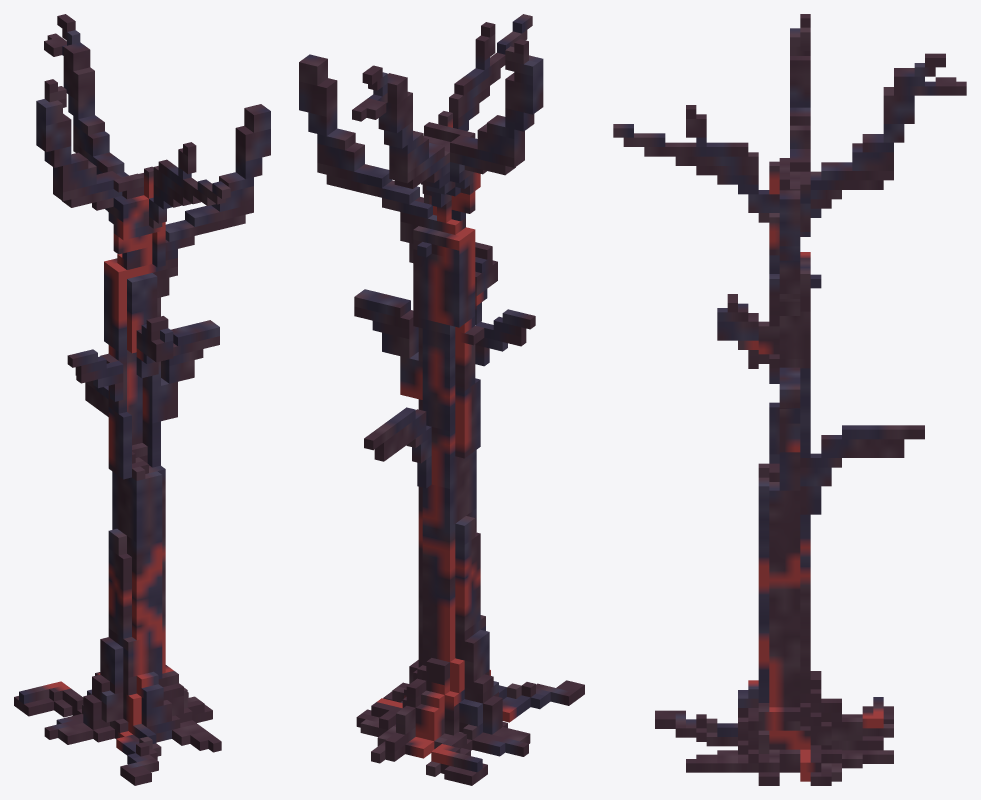
Rendered from Tree_state_4.fbx.
3 renders of one model, left to right at view 1: azimuth 30°, elevation 25°; view 2: azimuth 150°, elevation 25°; view 3: azimuth 270°, elevation 25°, orthographic. The views are drawn at different scales.
Visible parts, largest first — view 1: Tree_state_4; view 2: Tree_state_4; view 3: Tree_state_4.
Boxes of the visible parts, left/top/right/bottom form: Tree_state_4: left=14, top=14, right=270, bottom=785; Tree_state_4: left=299, top=14, right=584, bottom=785; Tree_state_4: left=613, top=14, right=966, bottom=785.
Size of the model in its own units: 26 by 74 by 34.
Materials: 1 (1 with a texture image).
